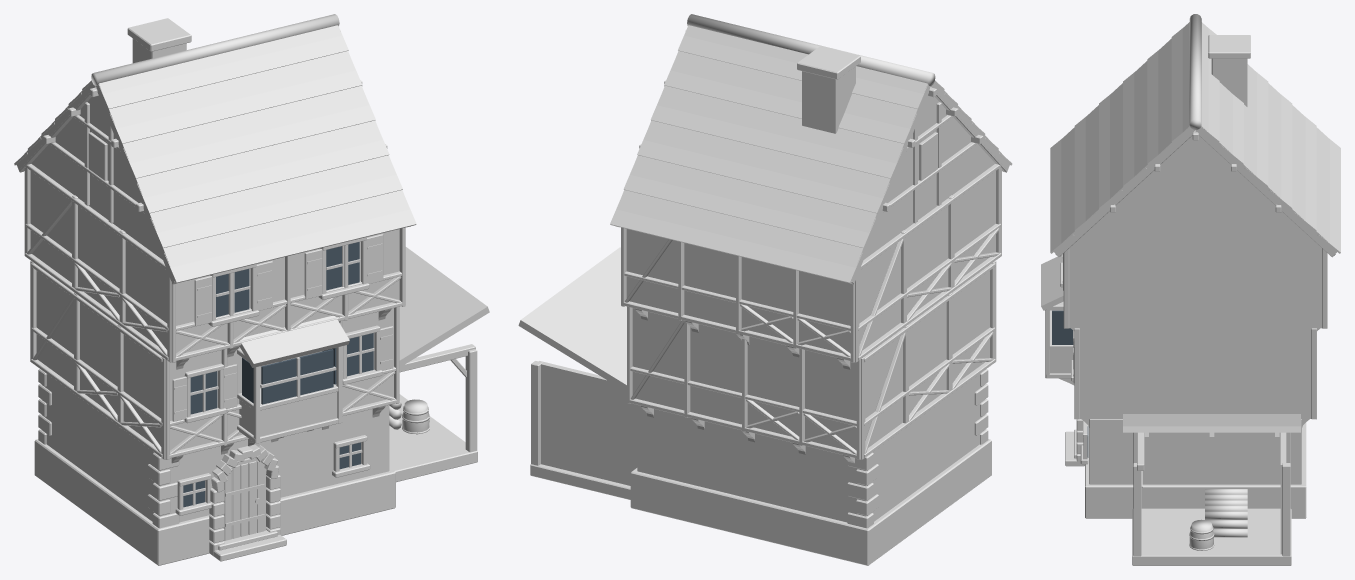
The model's file is col_24_angle_rue_oriel.fbx.
The picture shows the model from 3 angles, left to right: view 1: azimuth 30°, elevation 25°; view 2: azimuth 150°, elevation 25°; view 3: azimuth 270°, elevation 25°; orthographic projection. The views are drawn at different scales.
Parts seen in each view (by area): view 1: col_24_angle_rue_oriel_LOD0; view 2: col_24_angle_rue_oriel_LOD0; view 3: col_24_angle_rue_oriel_LOD0.
Boxes of the visible parts, left/top/right/bottom form: col_24_angle_rue_oriel_LOD0: left=14, top=14, right=489, bottom=565; col_24_angle_rue_oriel_LOD0: left=518, top=14, right=1012, bottom=565; col_24_angle_rue_oriel_LOD0: left=1041, top=14, right=1340, bottom=565.
Size of what is drawn, in the model's own units: 9.05 by 11 by 7.34.
